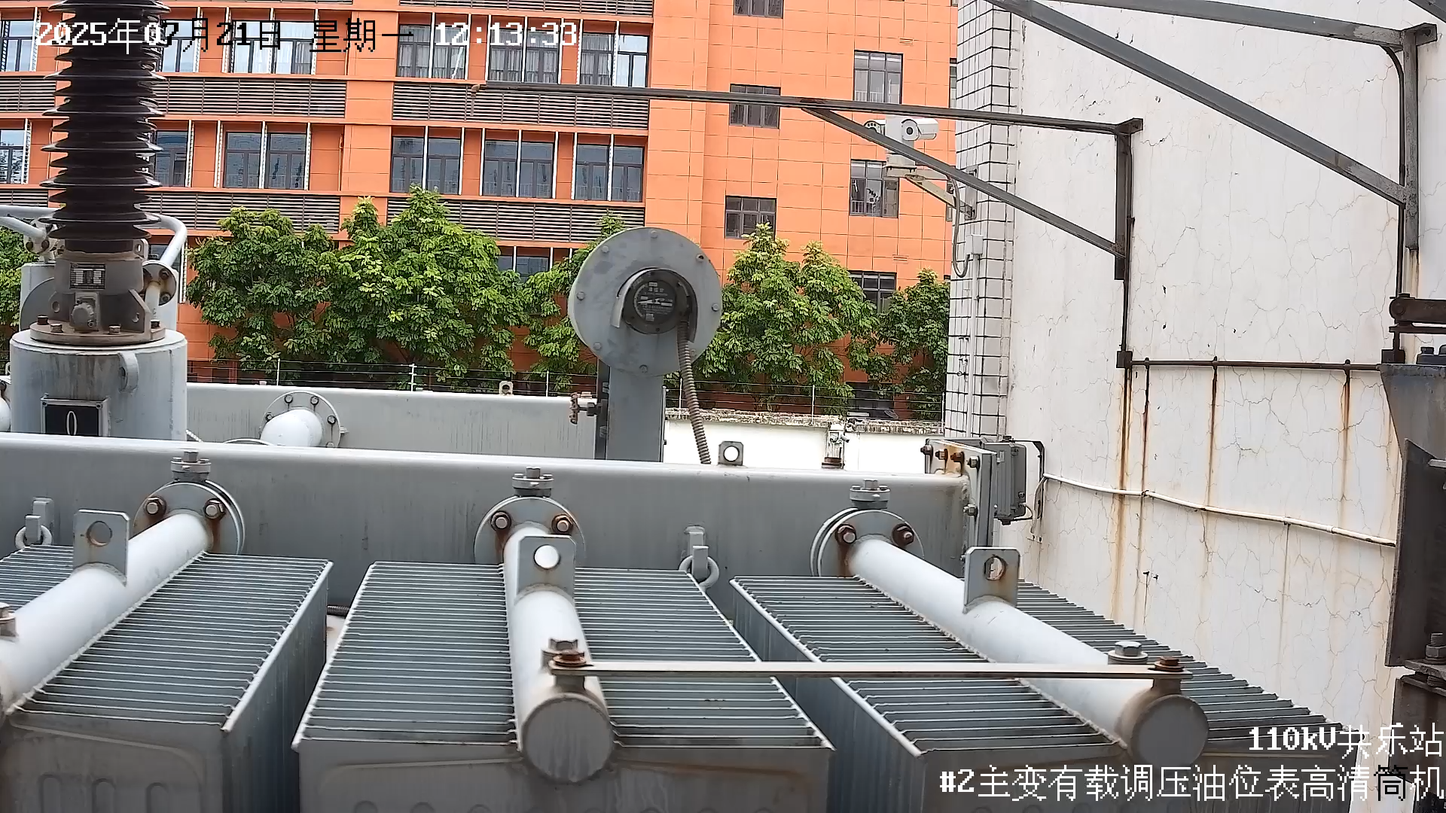MainTR: (1, 1, 1363, 813)
